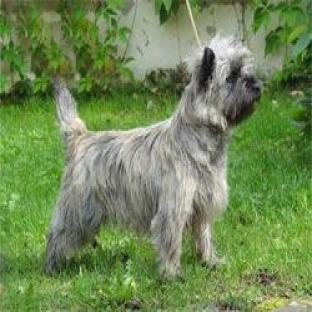Animal: (46, 35, 261, 277)
